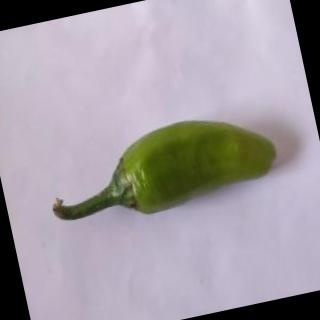Cabai Hijau: (38, 100, 289, 238)
